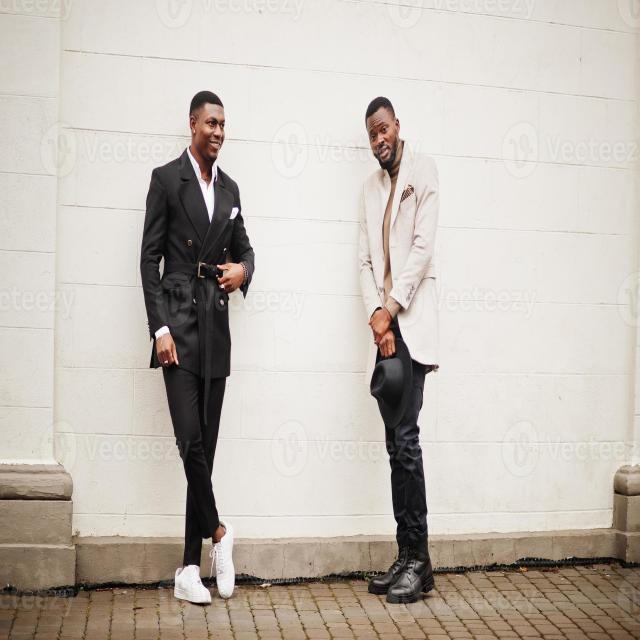sem_oculos: (365, 118, 398, 143), (187, 114, 230, 132)
